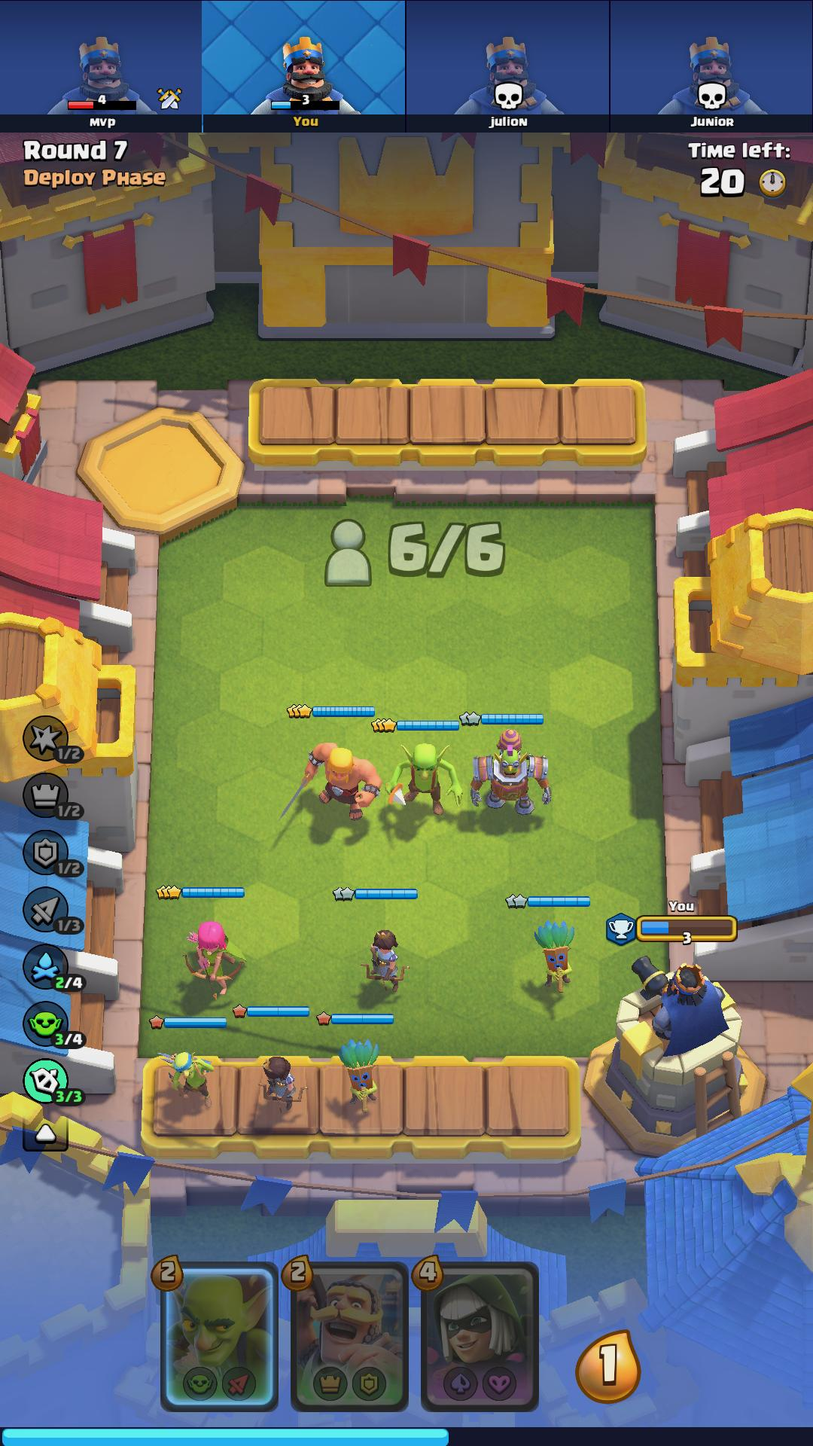archer: (172, 917, 248, 990)
barbarian: (303, 733, 383, 824)
dart: (528, 915, 582, 997), (334, 1035, 388, 1111)
goblin: (384, 739, 466, 821)
hand-bandit: (422, 1265, 534, 1410)
hand-goblin: (167, 1263, 275, 1399)
hand-knight: (289, 1262, 405, 1404)
machine: (468, 726, 559, 821)
princess: (357, 920, 407, 997), (257, 1050, 310, 1116)
spear: (165, 1046, 220, 1106)
